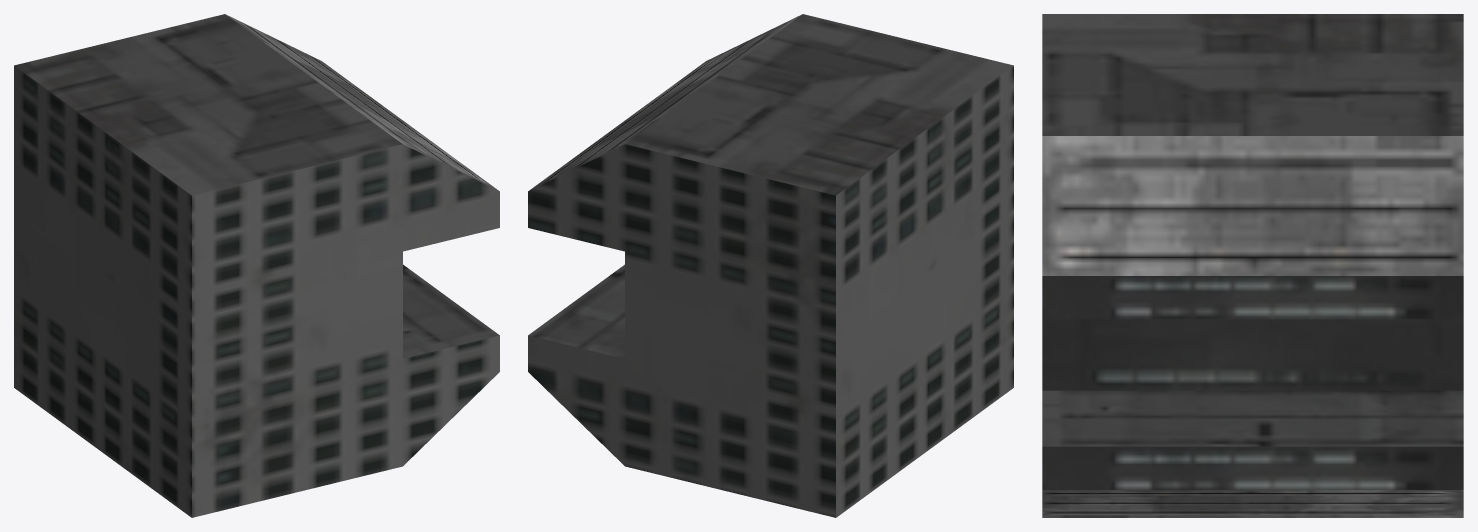
Rendered from scifi_building_13.obj.
3 views of the same model, side by side, from view 1: azimuth 30°, elevation 25°; view 2: azimuth 150°, elevation 25°; view 3: azimuth 270°, elevation 25° (orthographic). The views are drawn at different scales.
Parts seen in each view (by area): view 1: building_13; view 2: building_13; view 3: building_13.
Boxes of the visible parts, x1=… form: building_13: x1=14, y1=14, x2=499, y2=517; building_13: x1=528, y1=14, x2=1013, y2=517; building_13: x1=1042, y1=14, x2=1463, y2=517.
Size of the model in its own units: 54.34 by 54.34 by 54.34.
1 material, 1 textured.
